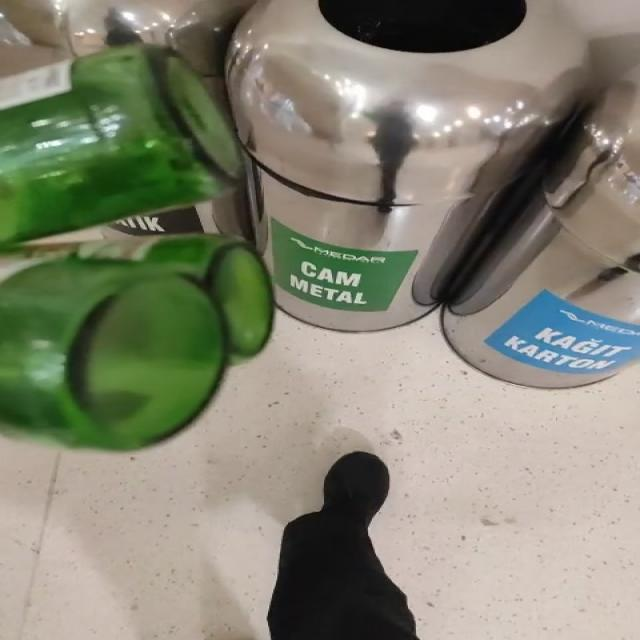Bin: (227, 0, 587, 331), (444, 82, 640, 388)
Glass: (0, 44, 273, 450)
